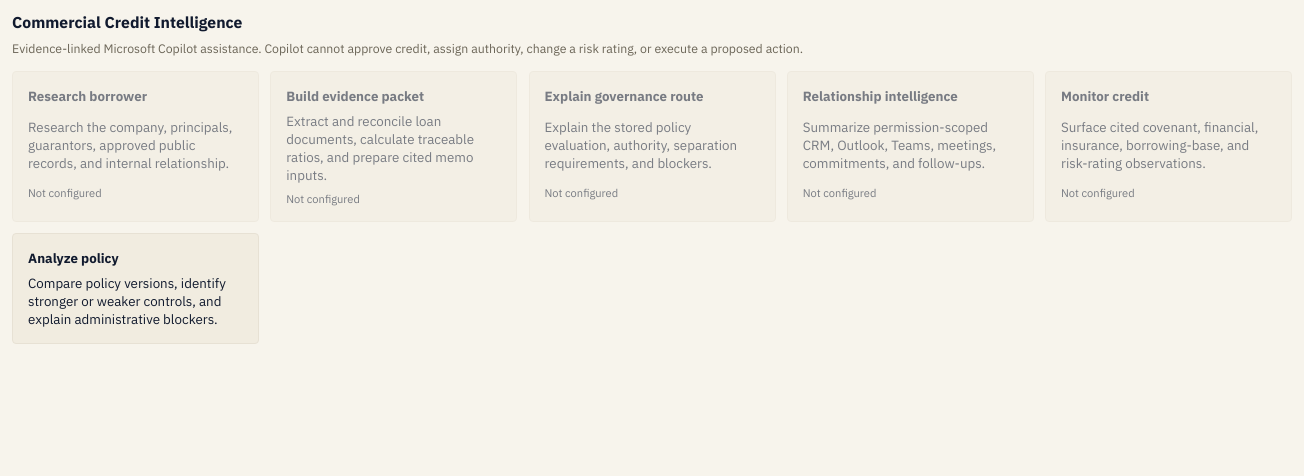
Scenario: CreditIntelligenceWorkbench › renders a fail-closed result without implying work was completed
Click the button "Analyze policy": (136, 289) [12,233,259,344]
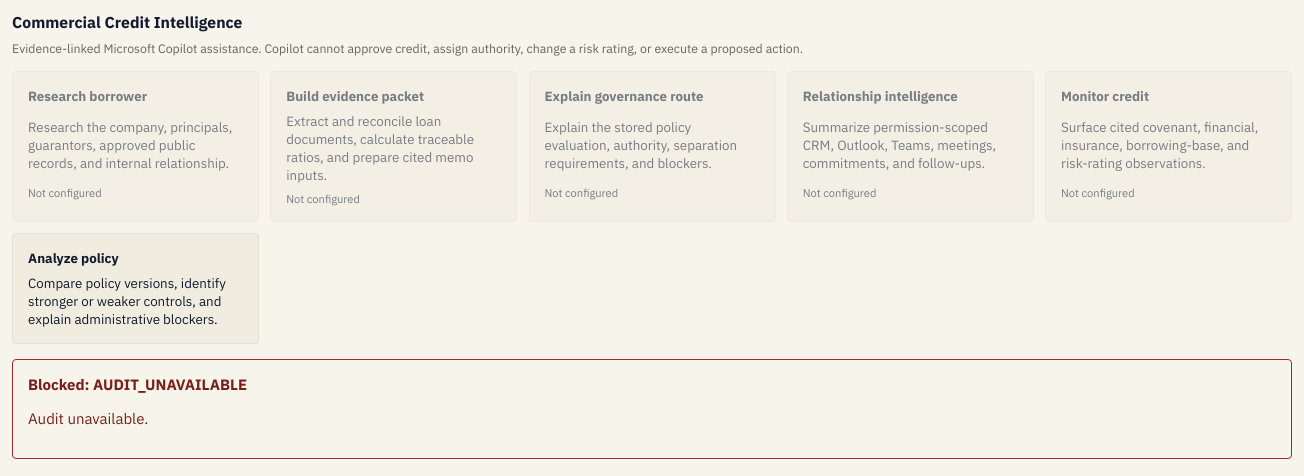
Expected: the message shows "Blocked: AUDIT_UNAVAILABLE", [12,359,1292,459]
